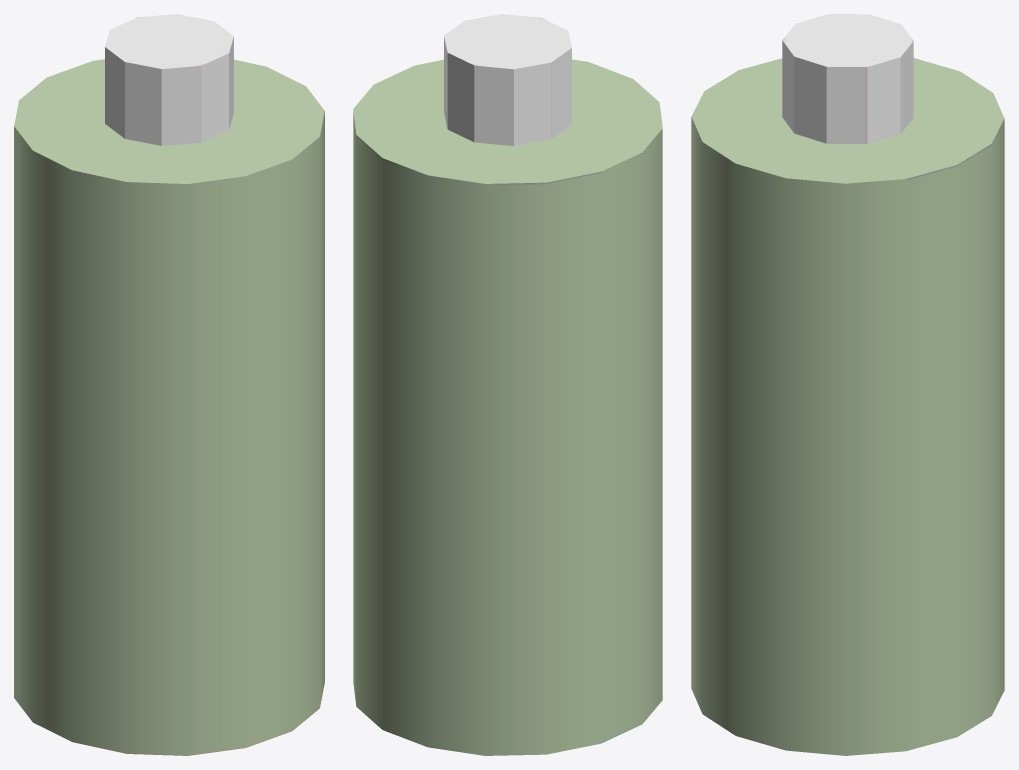
File: prodotto 4.fbx
The picture shows the model from 3 angles, left to right: view 1: azimuth 30°, elevation 25°; view 2: azimuth 150°, elevation 25°; view 3: azimuth 270°, elevation 25°; orthographic projection.
Parts seen in each view (by area): view 1: prodotto_4; view 2: prodotto_4; view 3: prodotto_4.
Boxes of the visible parts, left/top/right/bottom form: prodotto_4: left=14, top=14, right=324, bottom=755; prodotto_4: left=353, top=14, right=662, bottom=755; prodotto_4: left=691, top=14, right=1004, bottom=755.
Size of the model in its own units: 0.00686 by 0.0157 by 0.00686.
Materials: 1 (1 with a texture image).
